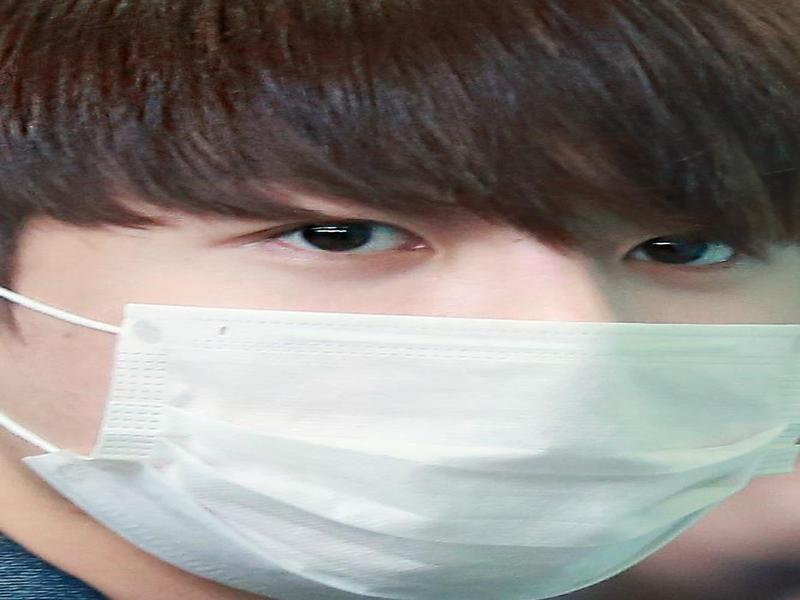with_mask: (1, 3, 796, 600)
